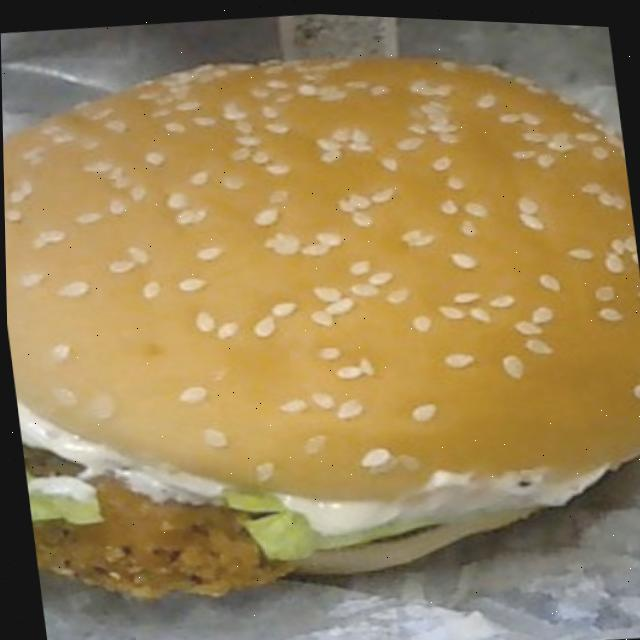汉堡快餐: (0, 6, 640, 614)
